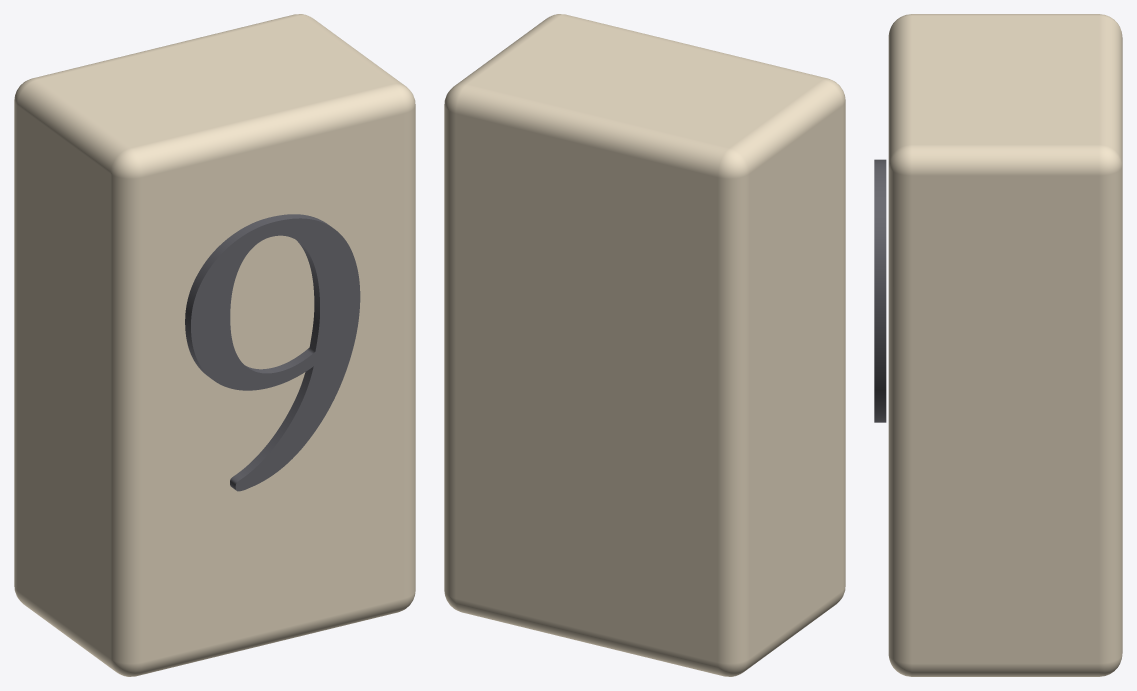
Rendered from pin_9.gltf.
3 views of the same model, side by side, from view 1: azimuth 30°, elevation 25°; view 2: azimuth 150°, elevation 25°; view 3: azimuth 270°, elevation 25° (orthographic).
Visible parts, largest first — view 1: White, Black; view 2: White; view 3: White, Black.
Boxes of the visible parts, x1=… form: White: x1=14, y1=14, x2=415, y2=676; Black: x1=185, y1=214, x2=360, y2=491; White: x1=444, y1=14, x2=845, y2=676; White: x1=888, y1=14, x2=1122, y2=676; Black: x1=874, y1=159, x2=886, y2=422.
Size of the model in its own units: 1.5 by 2.5 by 1.06.
